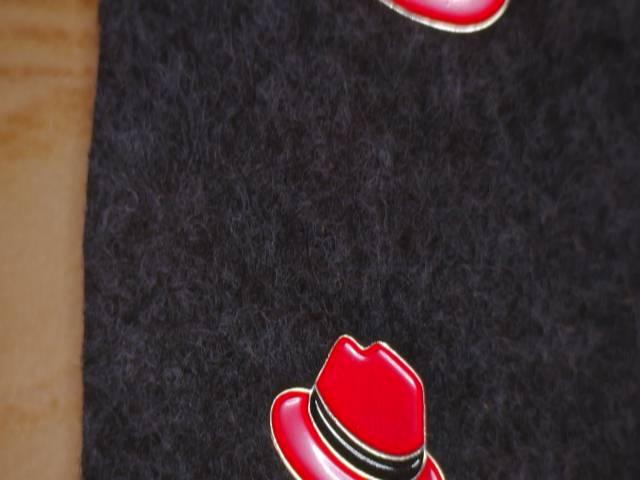Red-Hat: (254, 317, 496, 480)
